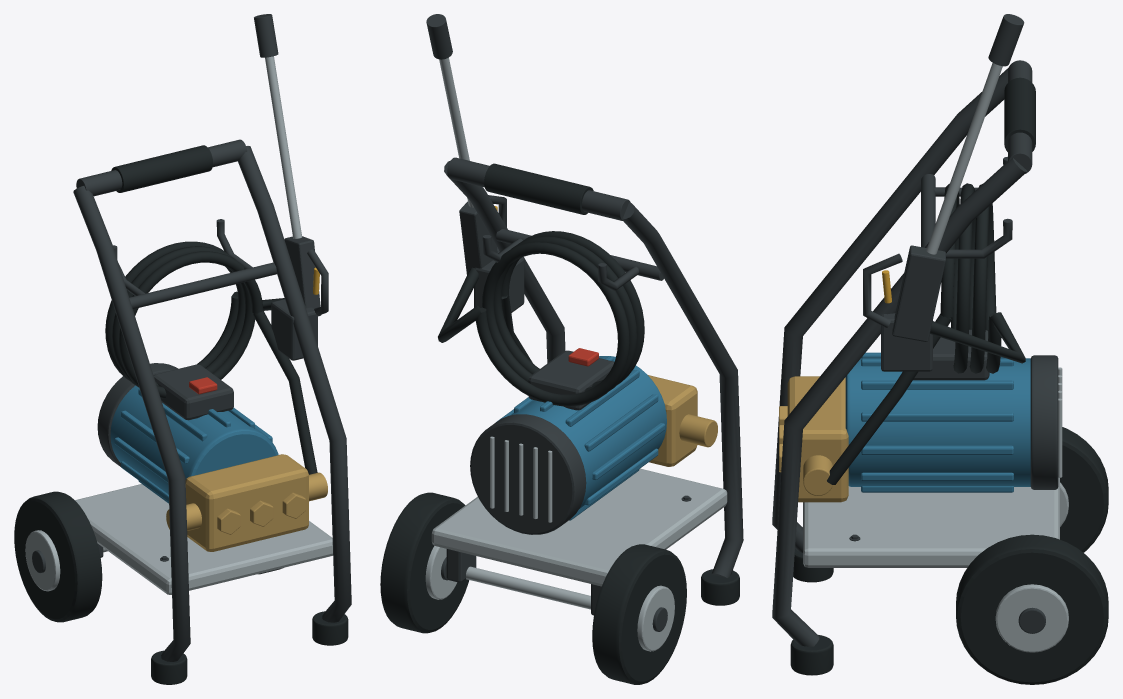
File: city-electric-pressure-washer.glb
3 renders of one model, left to right at view 1: azimuth 30°, elevation 25°; view 2: azimuth 150°, elevation 25°; view 3: azimuth 270°, elevation 25°, orthographic. The views are drawn at different scales.
Parts seen in each view (by area): view 1: Assembly | Dark powder coated steel, Assembly | Charcoal flexible rubber, Assembly | Brushed stainless fittings, Assembly | Brass couplings, Assembly | Deep blue molded polymer; view 2: Assembly | Charcoal flexible rubber, Assembly | Dark powder coated steel, Assembly | Brushed stainless fittings, Assembly | Deep blue molded polymer, Assembly | Brass couplings; view 3: Assembly | Dark powder coated steel, Assembly | Charcoal flexible rubber, Assembly | Brushed stainless fittings, Assembly | Deep blue molded polymer, Assembly | Brass couplings.
Boxes of the visible parts, x1,y1,x2,y2 form: Assembly | Dark powder coated steel: [32, 14, 351, 661]; Assembly | Charcoal flexible rubber: [14, 145, 348, 684]; Assembly | Brushed stainless fittings: [25, 56, 332, 594]; Assembly | Brass couplings: [166, 454, 327, 551]; Assembly | Deep blue molded polymer: [110, 385, 278, 503]; Assembly | Charcoal flexible rubber: [380, 163, 739, 684]; Assembly | Dark powder coated steel: [426, 14, 743, 631]; Assembly | Brushed stainless fittings: [425, 57, 727, 651]; Assembly | Deep blue molded polymer: [496, 356, 666, 520]; Assembly | Brass couplings: [648, 375, 717, 466]; Assembly | Dark powder coated steel: [772, 14, 1058, 646]; Assembly | Charcoal flexible rubber: [790, 77, 1108, 684]; Assembly | Brushed stainless fittings: [803, 63, 1068, 652]; Assembly | Deep blue molded polymer: [845, 352, 1030, 492]; Assembly | Brass couplings: [779, 376, 848, 502].
Size of the model in its own units: 0.5332 by 1.2 by 0.5502.
